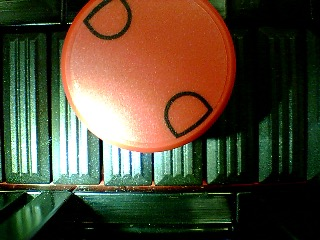MIPO2: (59, 1, 237, 152)
